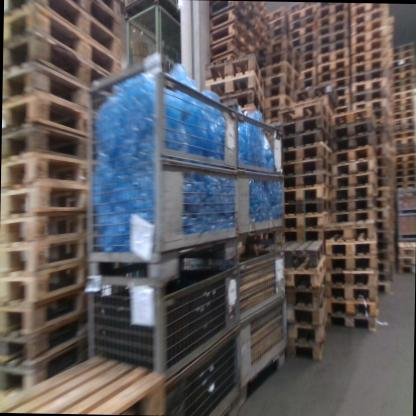pallet: (0, 351, 175, 414), (2, 1, 118, 79), (3, 30, 119, 97), (0, 334, 93, 397), (0, 279, 89, 342), (0, 316, 88, 370), (0, 260, 89, 312), (6, 0, 119, 40), (1, 118, 87, 170), (2, 59, 91, 107), (2, 148, 87, 198), (3, 89, 89, 138), (0, 178, 90, 223), (0, 208, 90, 252), (0, 236, 87, 280), (203, 52, 265, 101), (202, 69, 264, 110), (281, 269, 328, 312), (214, 89, 265, 122), (282, 292, 326, 330), (254, 34, 303, 68), (332, 100, 379, 134), (215, 230, 270, 259), (283, 256, 327, 292), (277, 98, 335, 125), (207, 22, 257, 53), (294, 82, 341, 112), (280, 114, 332, 141), (322, 217, 377, 242), (278, 238, 322, 269), (209, 8, 258, 35), (286, 315, 329, 345), (282, 128, 333, 153), (279, 194, 333, 217), (324, 248, 378, 271), (206, 38, 257, 62), (281, 170, 333, 193), (280, 154, 332, 176), (284, 339, 325, 366), (330, 157, 378, 180), (282, 141, 332, 163), (278, 180, 332, 200), (270, 225, 325, 244), (330, 132, 378, 153), (279, 211, 331, 230), (350, 84, 397, 105), (262, 48, 300, 73), (260, 60, 299, 84), (350, 26, 387, 51), (351, 77, 395, 98), (350, 68, 394, 89), (331, 182, 377, 201), (334, 118, 379, 137), (324, 241, 377, 257), (328, 286, 377, 303), (332, 169, 377, 187), (331, 195, 376, 213), (351, 6, 387, 28), (324, 271, 376, 286), (332, 145, 377, 162), (257, 84, 296, 103), (352, 58, 393, 76), (328, 316, 377, 331), (350, 39, 390, 57), (328, 302, 377, 316), (351, 48, 387, 67), (317, 46, 349, 67), (260, 71, 297, 89), (350, 19, 387, 37), (332, 211, 376, 226), (354, 97, 397, 112), (317, 57, 347, 78), (289, 14, 317, 36), (317, 65, 349, 84), (258, 95, 293, 112), (289, 3, 316, 25), (92, 0, 120, 21), (207, 2, 260, 13), (286, 59, 315, 79), (290, 31, 316, 53), (290, 42, 318, 62), (290, 22, 315, 44), (289, 69, 317, 88), (317, 38, 348, 55), (318, 2, 347, 20), (318, 20, 348, 37), (351, 4, 384, 19), (289, 51, 315, 70), (319, 11, 348, 28), (318, 30, 347, 46), (288, 79, 316, 95), (319, 78, 348, 93), (287, 2, 315, 16), (262, 8, 285, 24), (264, 15, 283, 34), (263, 109, 287, 123), (329, 87, 349, 103), (265, 26, 285, 40), (265, 38, 285, 52), (318, 2, 347, 11)
stillage: (79, 44, 243, 287), (84, 245, 249, 412), (233, 241, 288, 412), (231, 99, 286, 250), (121, 2, 187, 75), (394, 189, 416, 240)
